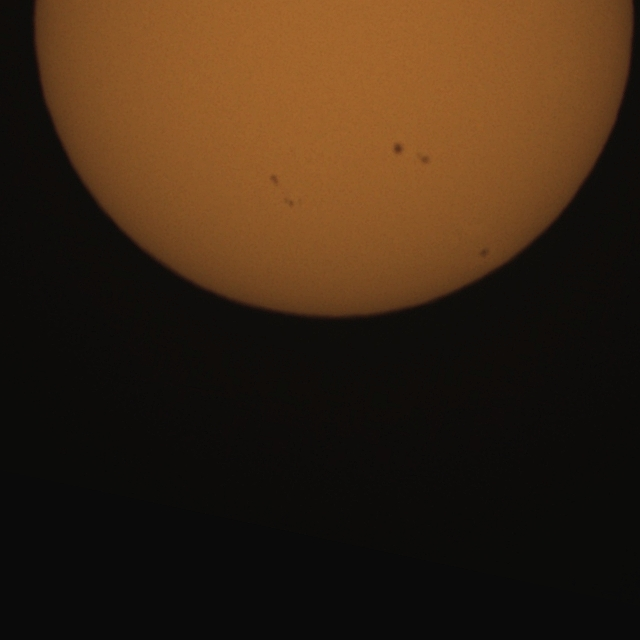sunspot: (390, 139, 405, 158), (476, 244, 491, 262), (418, 153, 432, 167), (268, 173, 280, 188), (282, 196, 295, 209)
